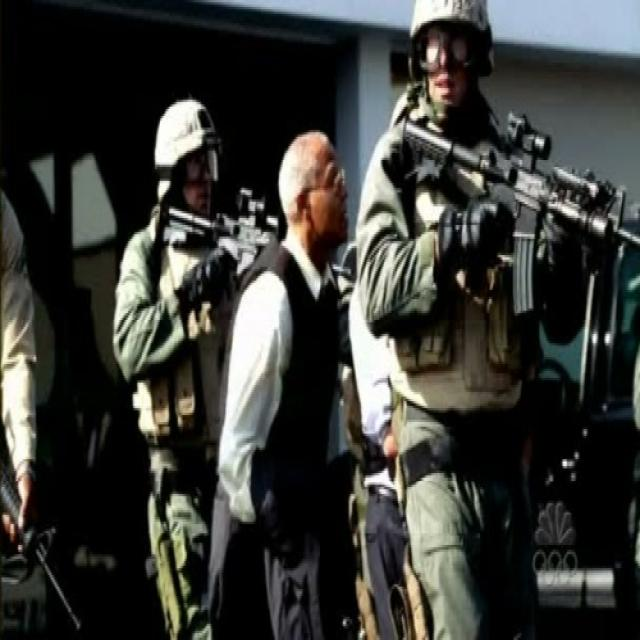rifle: (402, 108, 618, 319)
